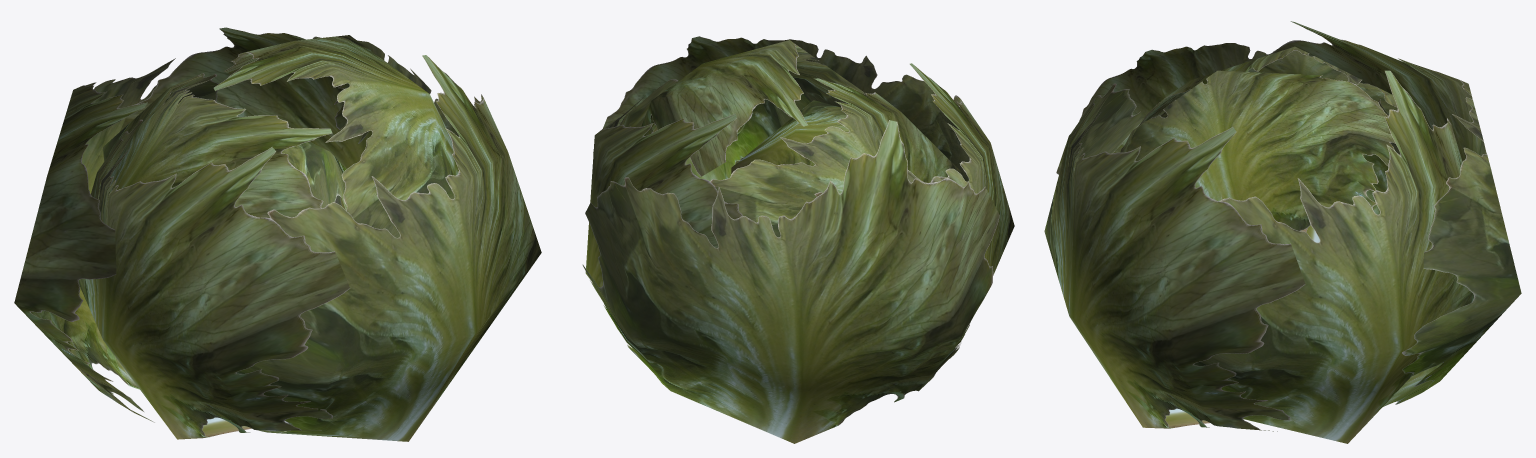
Rendered from lettuce.fbx.
The picture shows the model from 3 angles, left to right: view 1: azimuth 30°, elevation 25°; view 2: azimuth 150°, elevation 25°; view 3: azimuth 270°, elevation 25°; orthographic projection. The views are drawn at different scales.
Parts seen in each view (by area): view 1: Lettuce; view 2: Lettuce; view 3: Lettuce.
Boxes of the visible parts, x1,y1,x2,y2 form: Lettuce: (14,27,541,441); Lettuce: (582,36,1014,443); Lettuce: (1044,21,1521,443).
Bounding box in the file's own units: 1.29 × 1.06 × 1.25.
